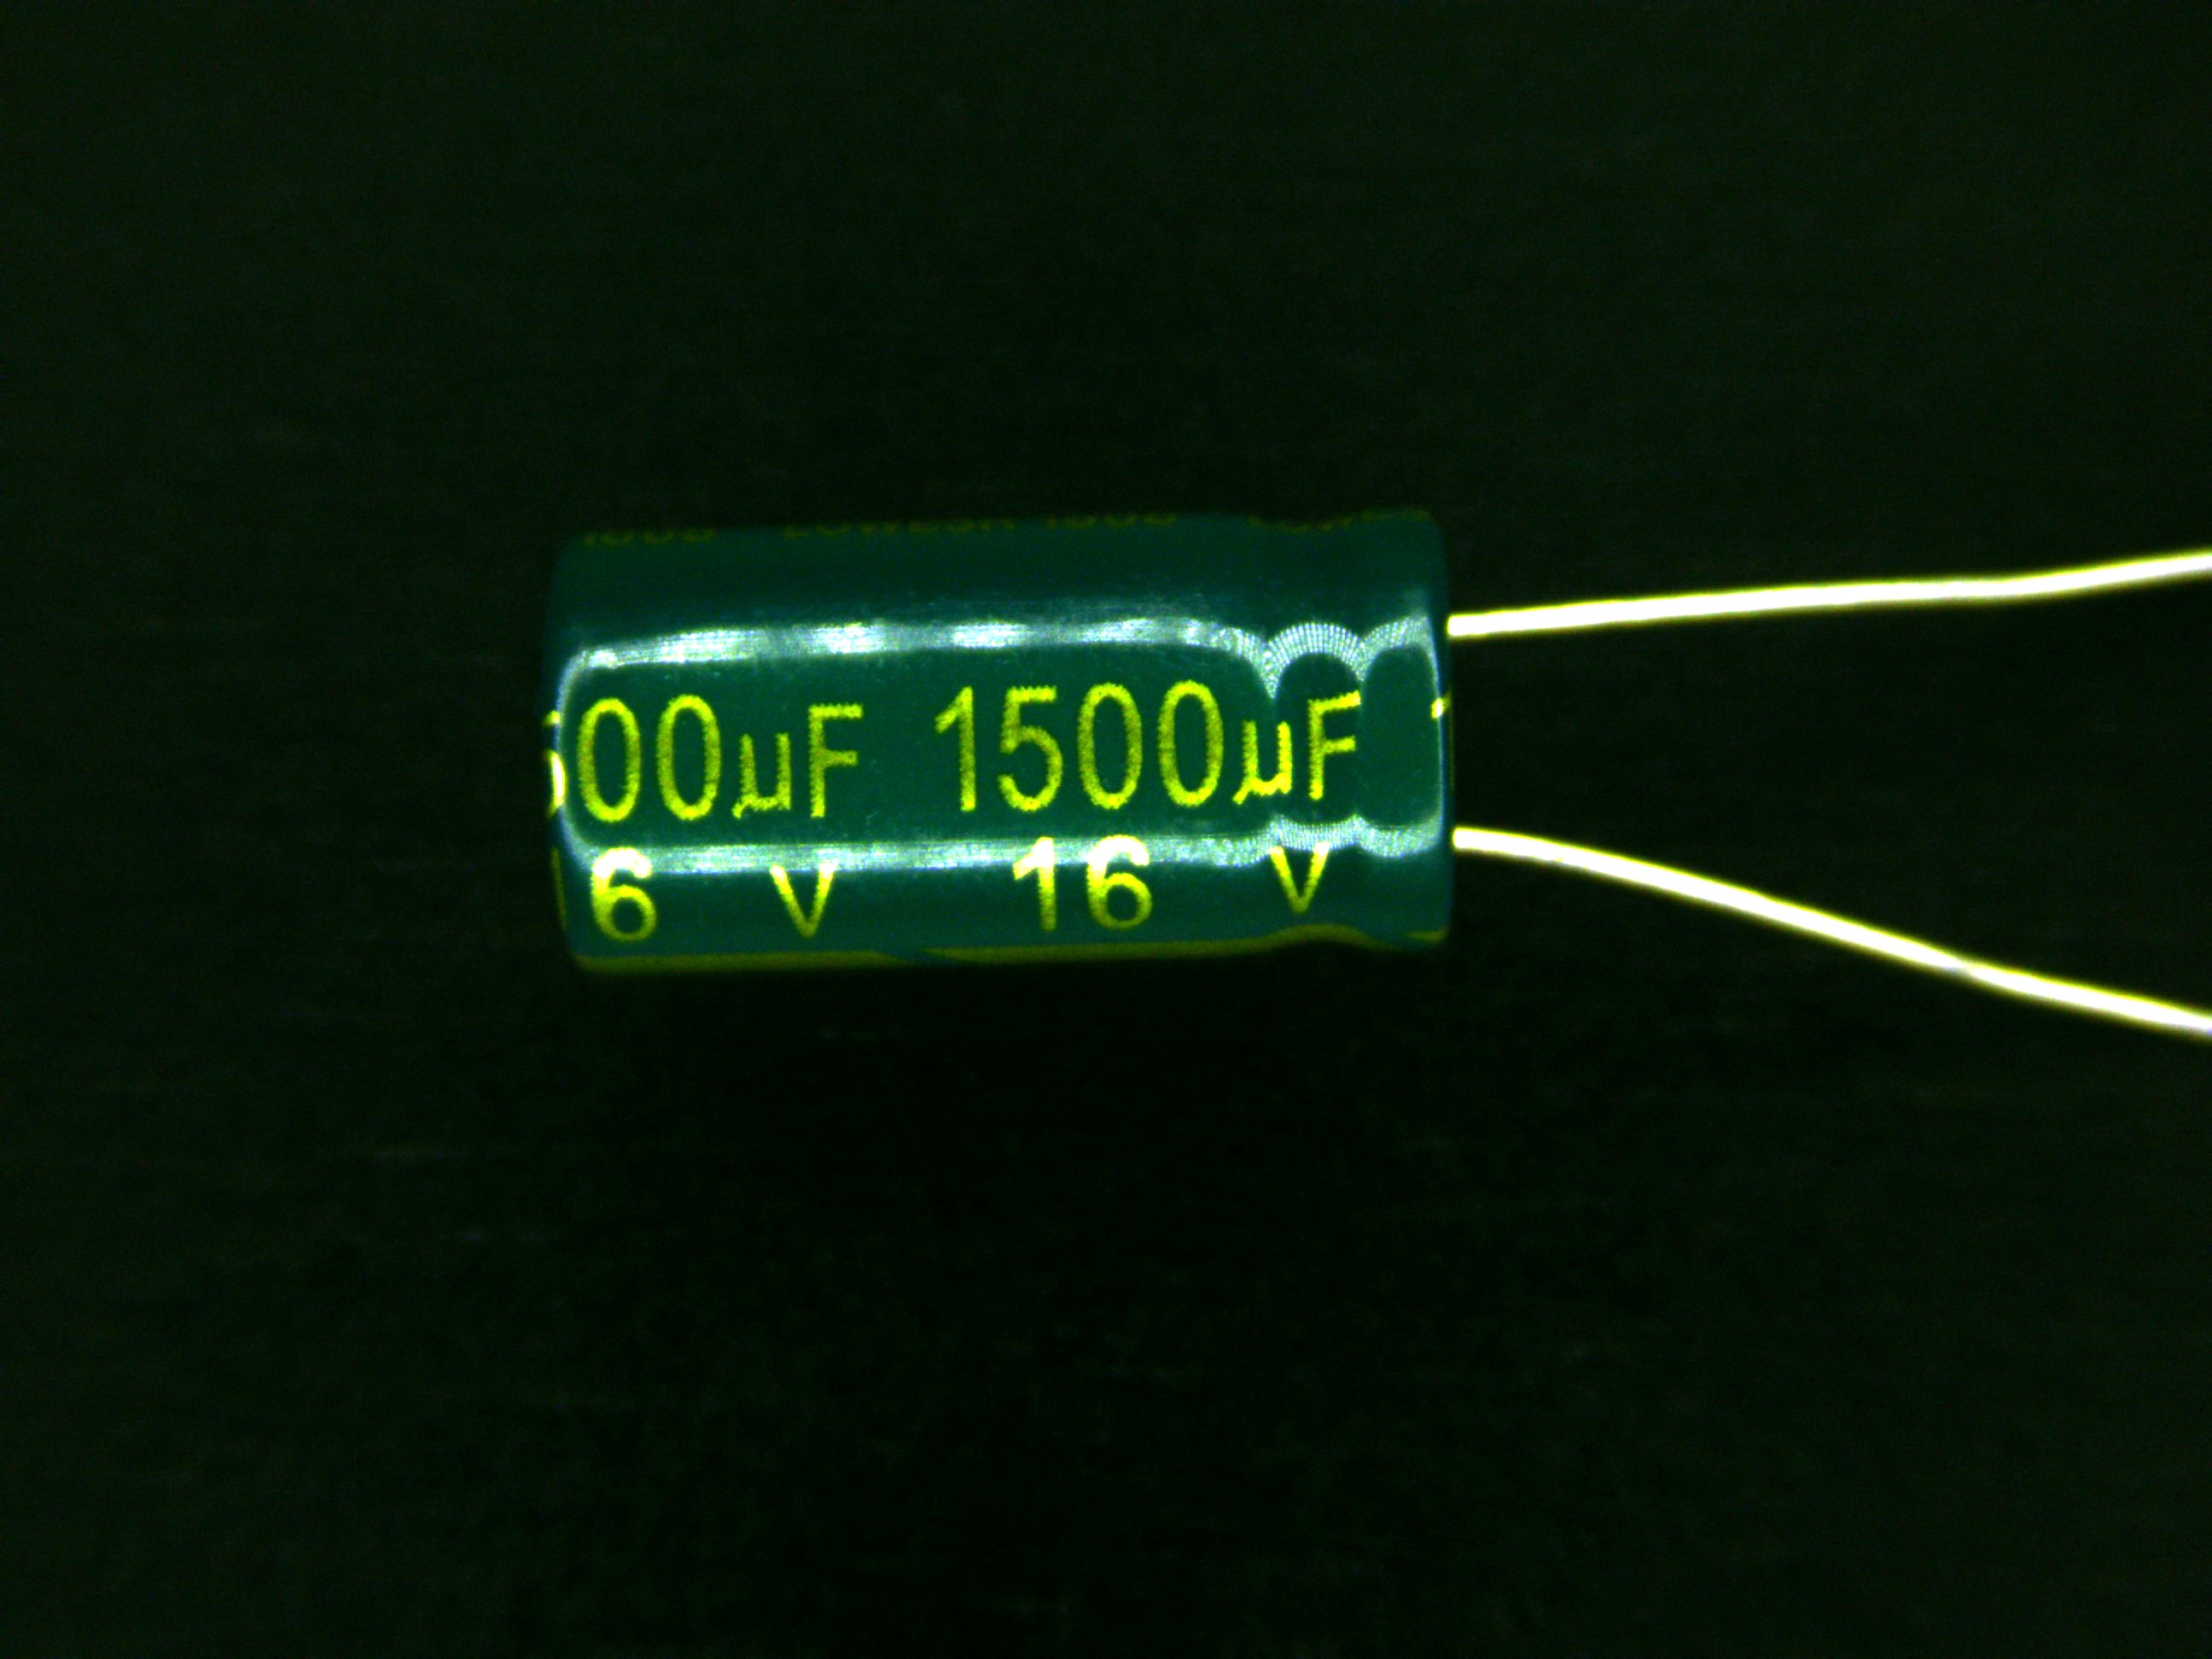c1: (536, 511, 1653, 967)
